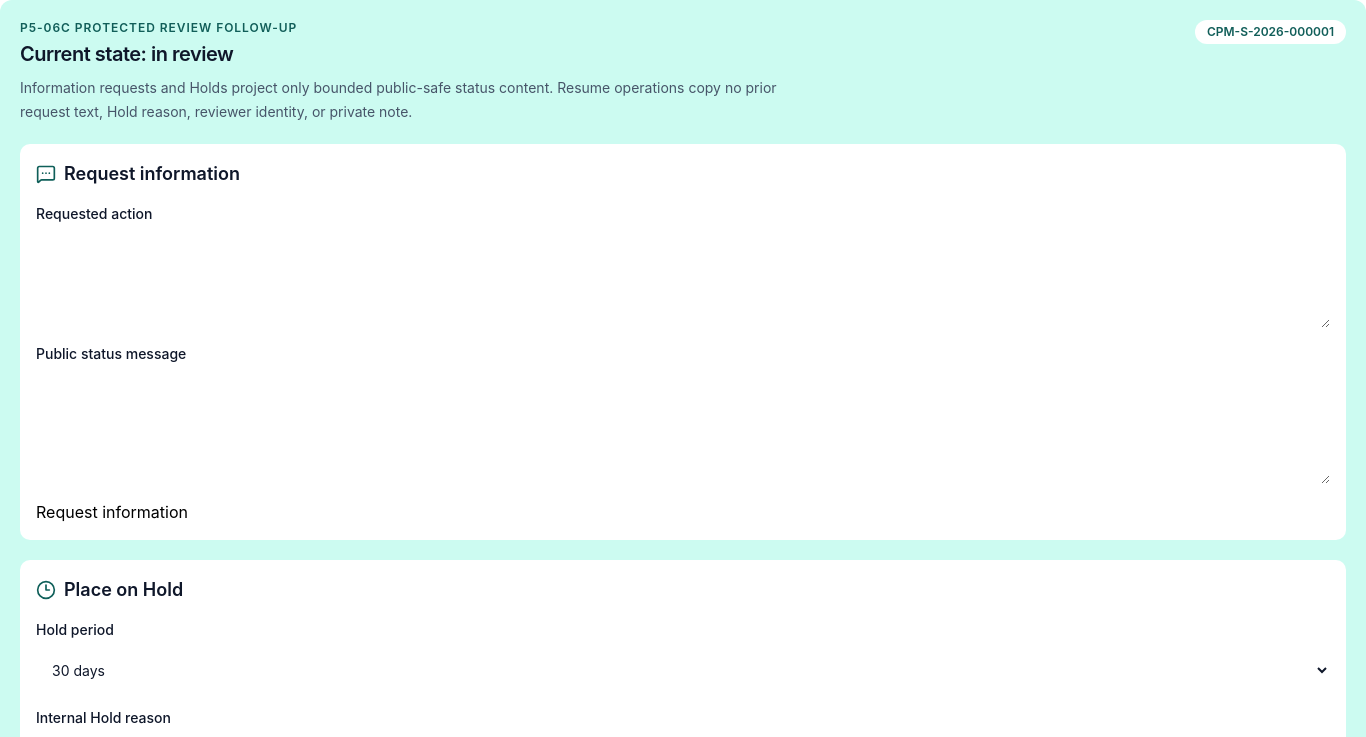
Test: P5-06C2 common review follow-up controls › requests report information with exact state and exposes explicit resume afterward
Type "Provide the official privacy contact." into the text box labelled "Requested action" at (683, 280), box [36,232,1330,328]
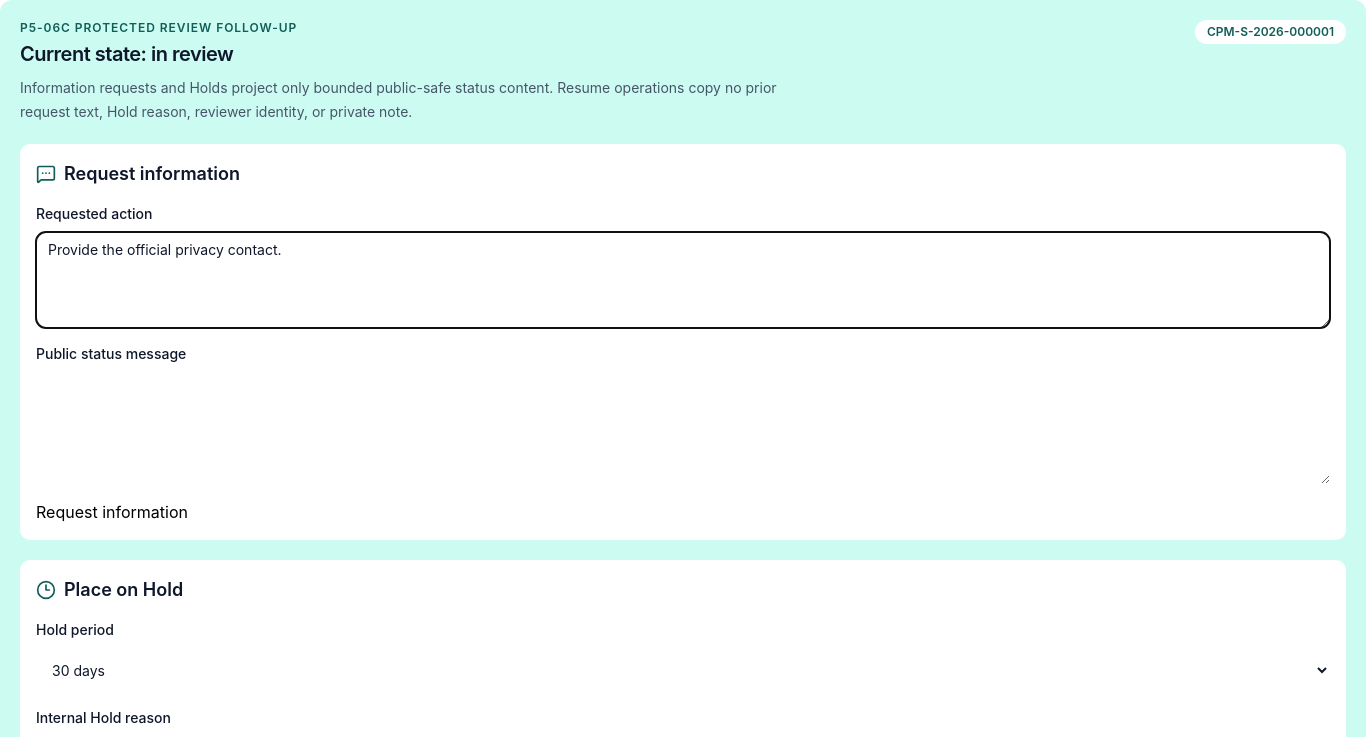
Type "Please provide the official privacy contact." into the text box labelled "Public status message" at (683, 428), box [36,372,1330,484]
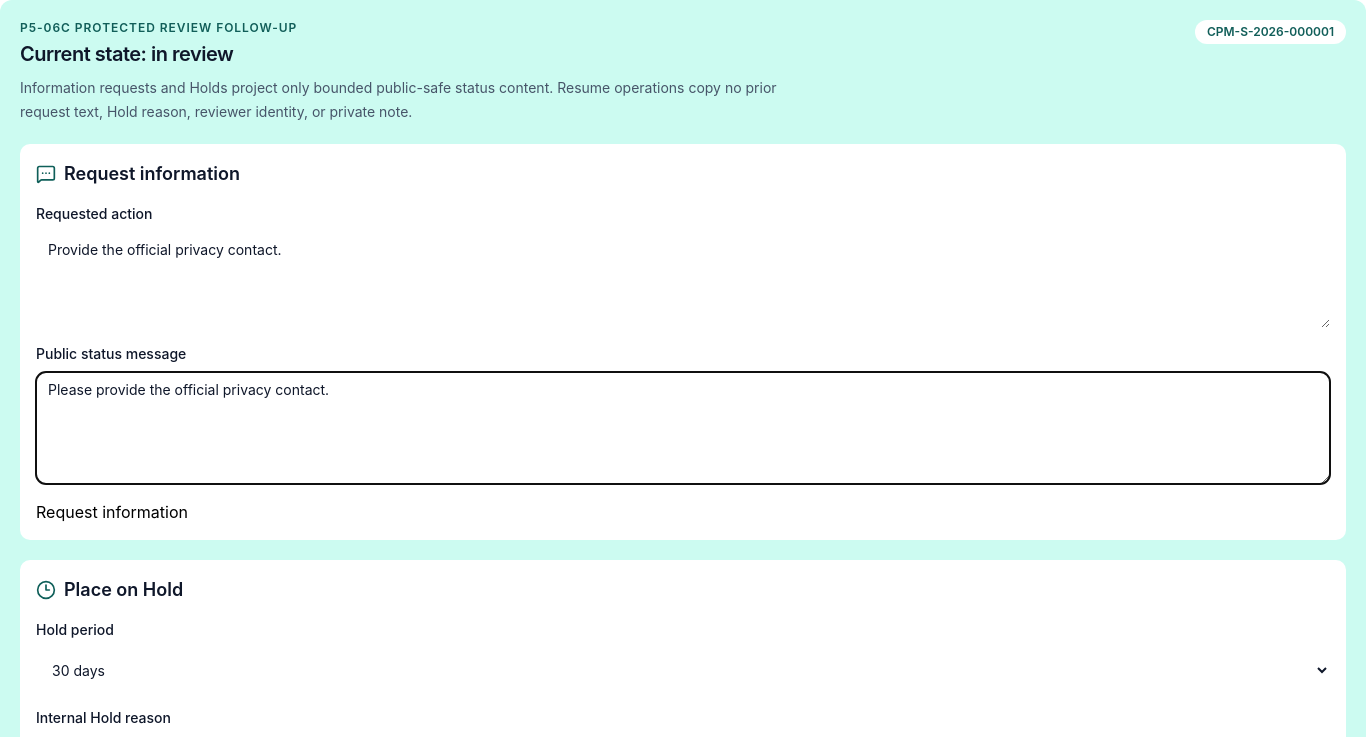
Click the button "Request information" at (112, 512), box [36,500,188,524]
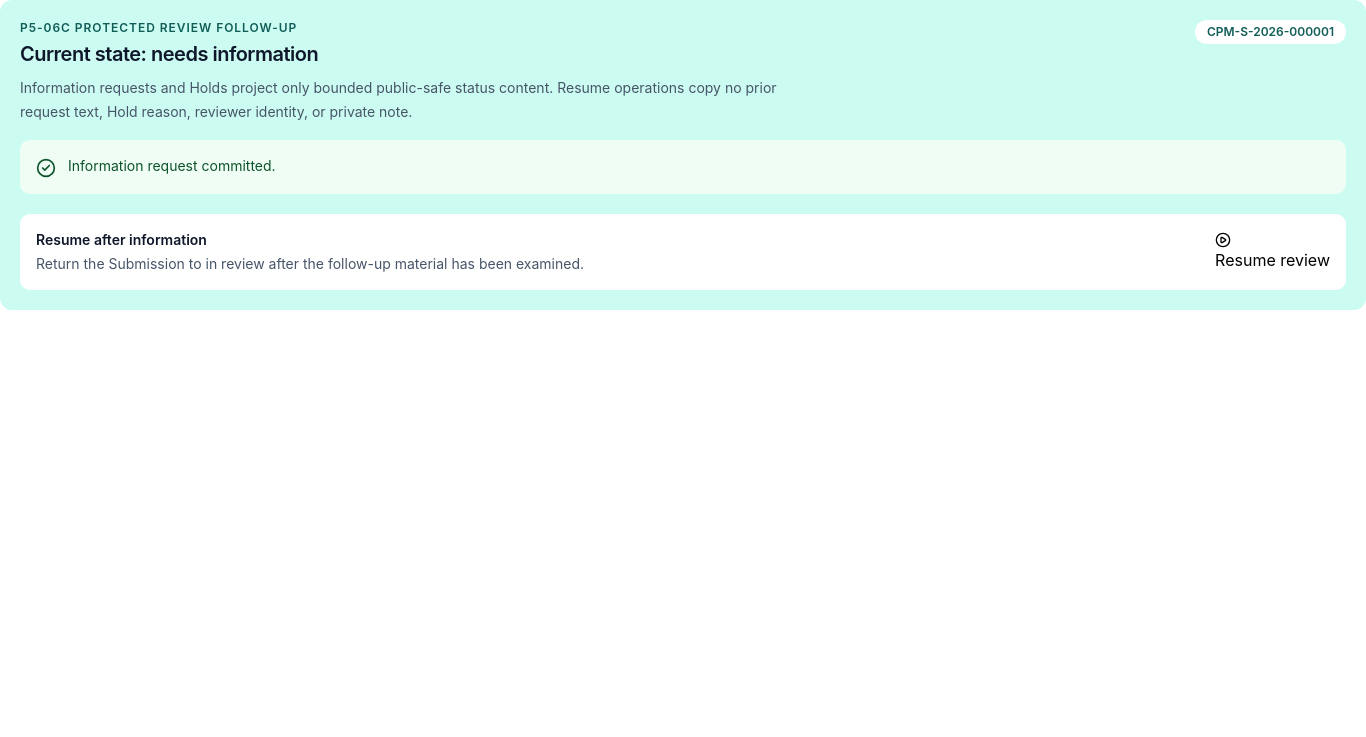
Expected: the button "Resume review" is shown, [1215,232,1330,272]
